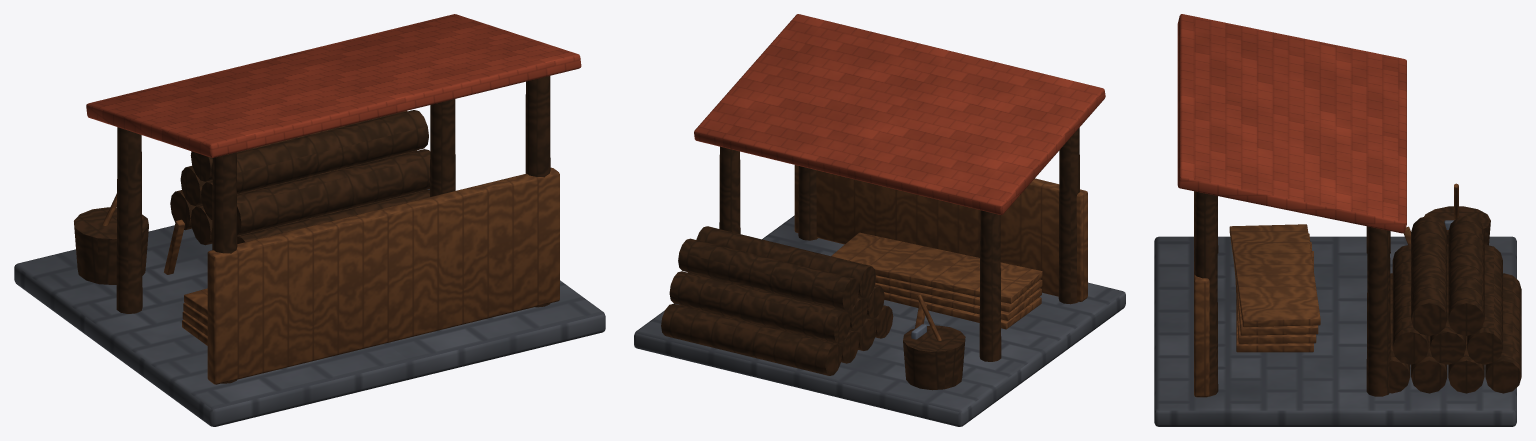
Rendered from building_lumber_camp.glb.
The picture shows the model from 3 angles, left to right: view 1: azimuth 30°, elevation 25°; view 2: azimuth 150°, elevation 25°; view 3: azimuth 270°, elevation 25°; orthographic projection. The views are drawn at different scales.
Parts seen in each view (by area): view 1: building_lumber_camp; view 2: building_lumber_camp; view 3: building_lumber_camp.
Part boxes in pixels (left/top/right/bottom): building_lumber_camp: left=14, top=14, right=605, bottom=426; building_lumber_camp: left=634, top=14, right=1125, bottom=426; building_lumber_camp: left=1154, top=14, right=1521, bottom=426.
Bounding box in the file's own units: 4.8 × 3.15 × 4.26.
Materials: 5 (5 with a texture image).
